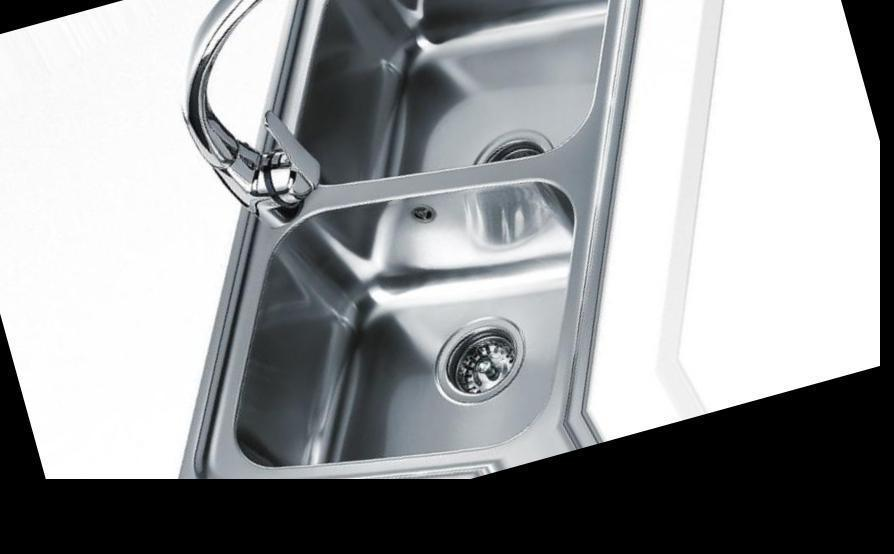Lavaplatos: (27, 0, 778, 554)
